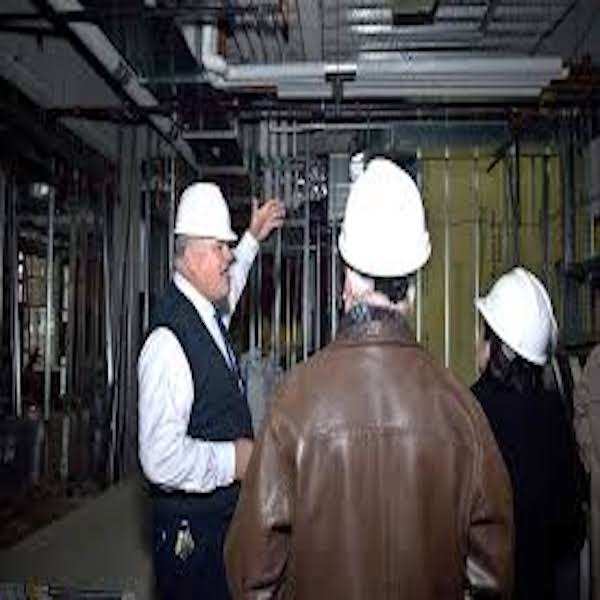helmet: (339, 161, 438, 276), (481, 268, 559, 358), (178, 182, 237, 240)
